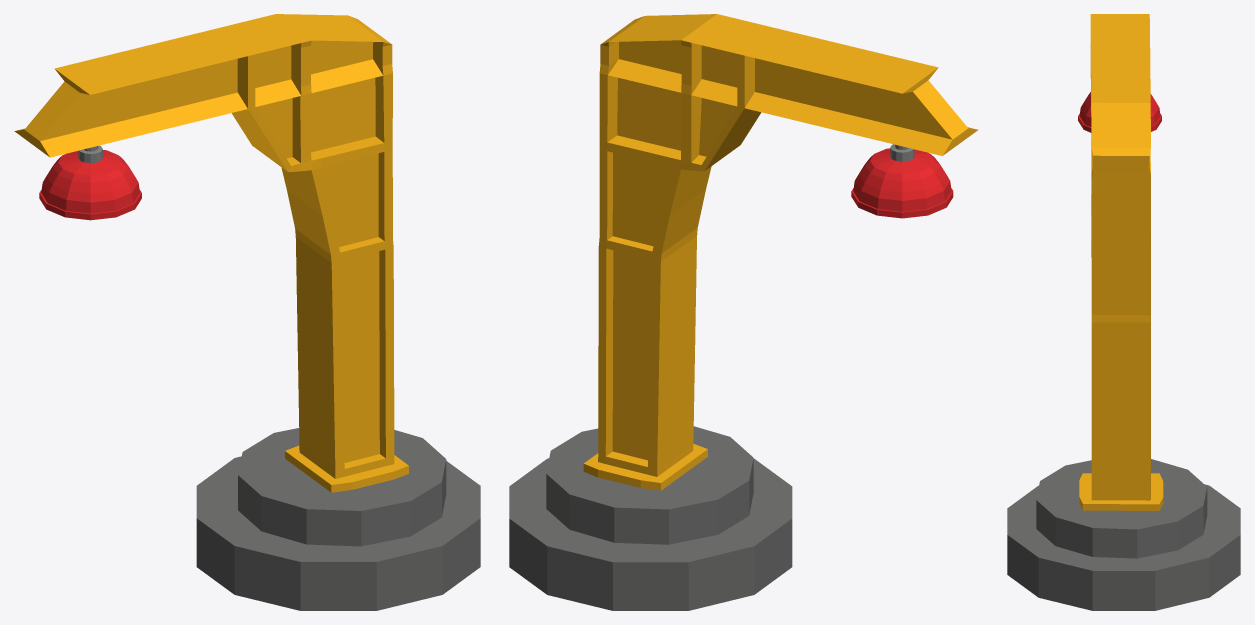
Rendered from Crane 1.fbx.
The picture shows the model from 3 angles, left to right: view 1: azimuth 30°, elevation 25°; view 2: azimuth 150°, elevation 25°; view 3: azimuth 270°, elevation 25°; orthographic projection. The views are drawn at different scales.
Parts seen in each view (by area): view 1: Crane, CraneBase, Suction; view 2: Crane, CraneBase, Suction; view 3: Crane, CraneBase, Suction.
Boxes of the visible parts, box(x1,y1,x2,y2) form: Crane: box(14, 14, 446, 546); CraneBase: box(196, 456, 480, 610); Suction: box(39, 145, 141, 220); Crane: box(546, 14, 978, 544); CraneBase: box(509, 458, 792, 610); Suction: box(851, 144, 953, 218); Crane: box(1036, 14, 1207, 558); CraneBase: box(1007, 484, 1240, 610); Suction: box(1078, 92, 1161, 132).
Size of the model in its own units: 487 by 578 by 277.
